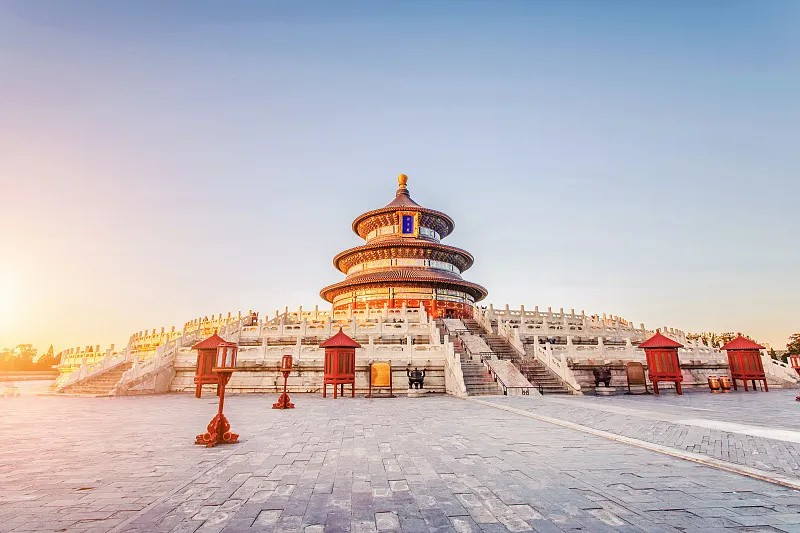Heaven: (320, 174, 488, 320)
